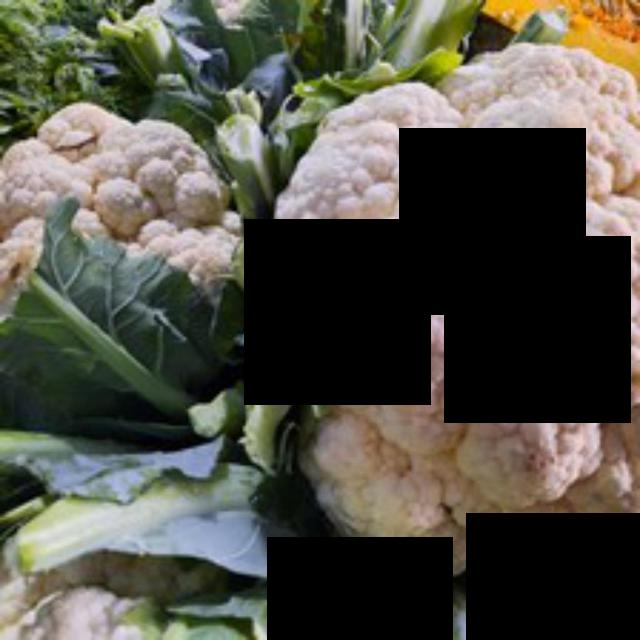cauliflower: (257, 26, 637, 614)
